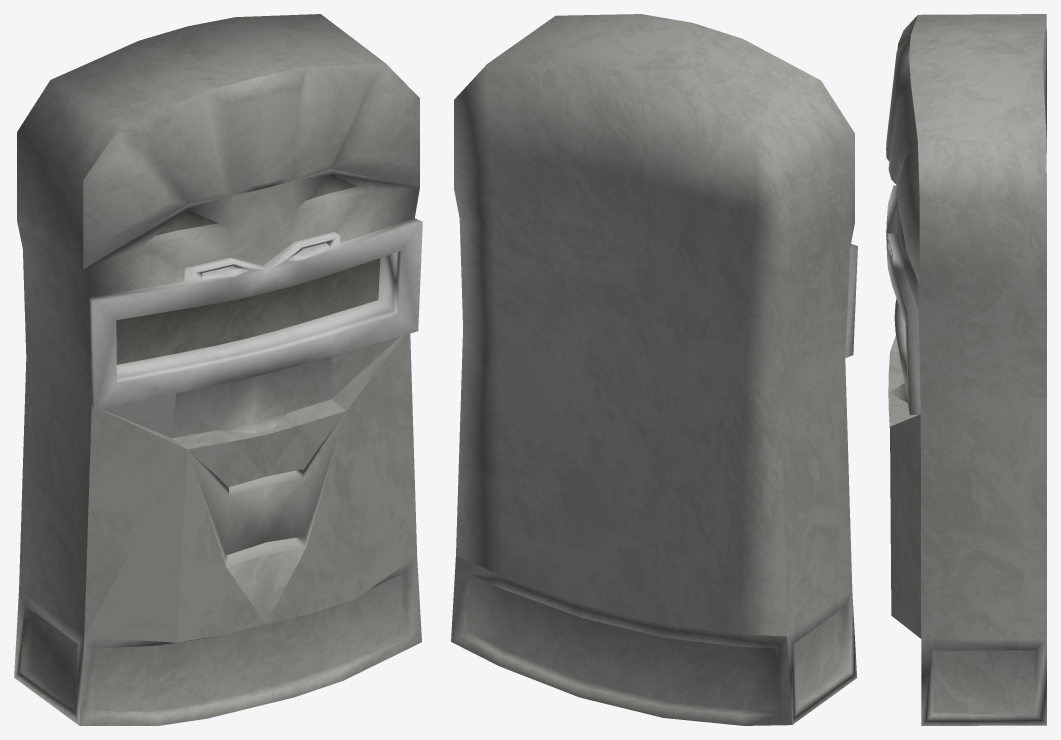
The model's file is StoneTablet.fbx.
3 renders of one model, left to right at view 1: azimuth 30°, elevation 25°; view 2: azimuth 150°, elevation 25°; view 3: azimuth 270°, elevation 25°, orthographic. The views are drawn at different scales.
Visible parts, largest first — view 1: Tablet; view 2: Tablet; view 3: Tablet.
Part boxes in pixels (x1=…): Tablet: x1=14, y1=14, x2=422, y2=725; Tablet: x1=451, y1=14, x2=857, y2=725; Tablet: x1=886, y1=14, x2=1046, y2=725.
Bounding box in the file's own units: 165 × 293 × 69.67.
1 material, 1 textured.
